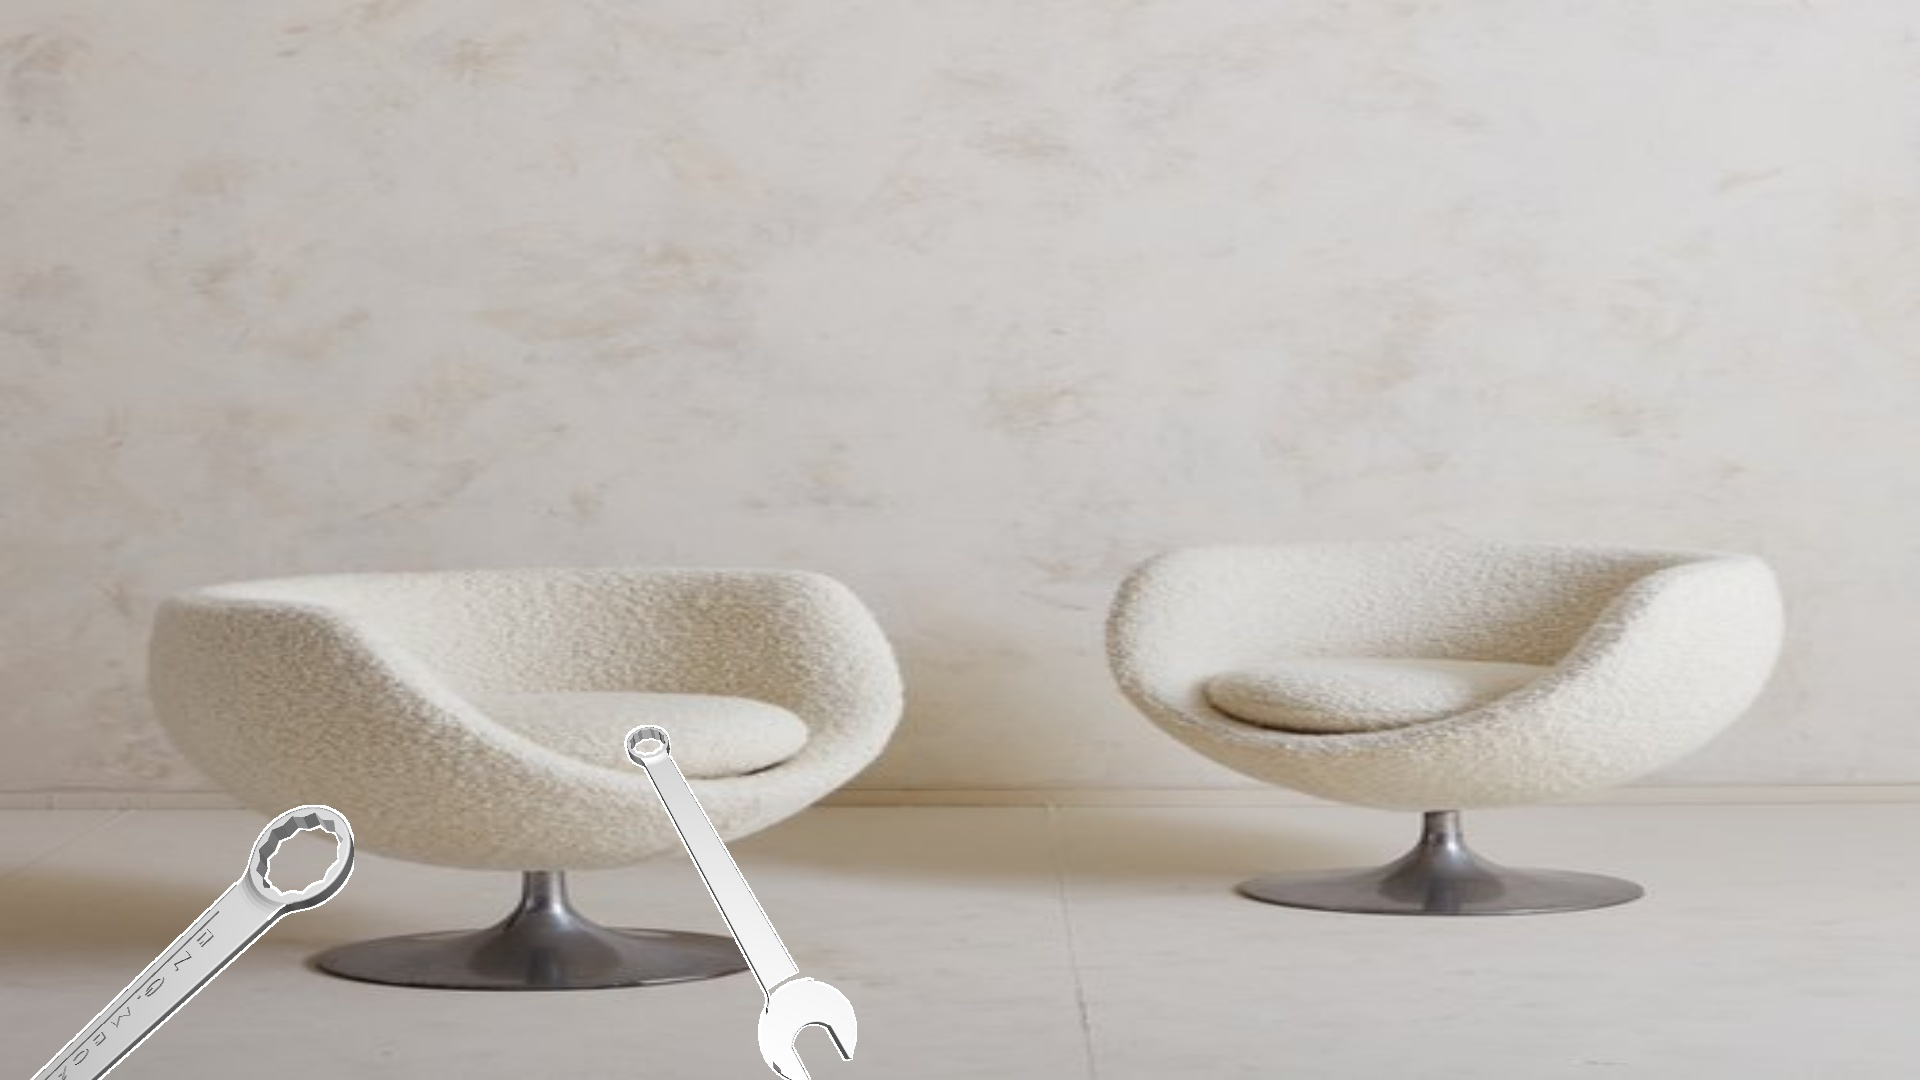Mixed Key: (30, 804, 353, 1079), (624, 725, 856, 1079)
